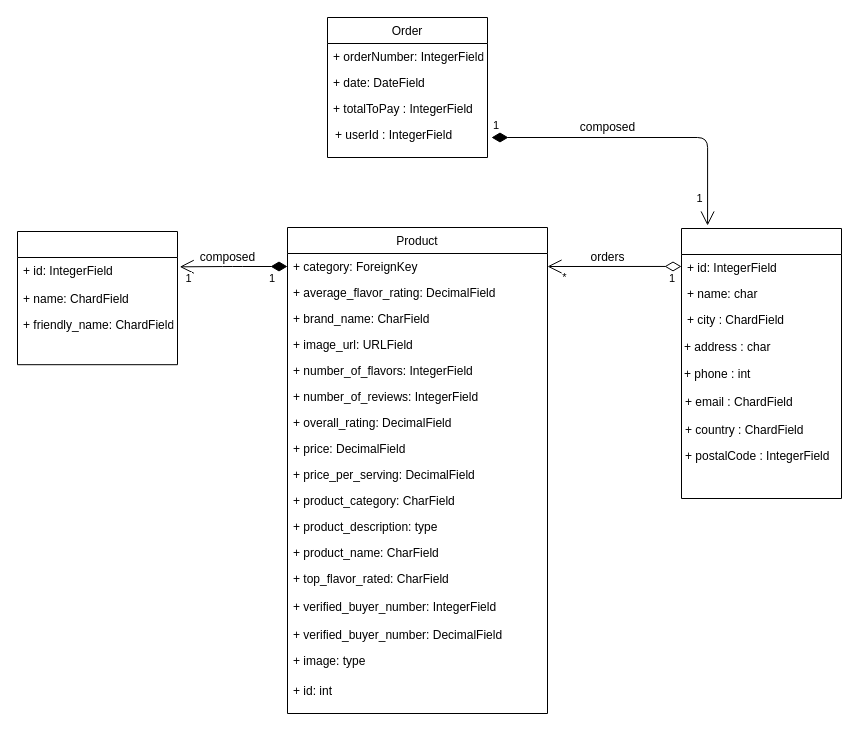
This 859x734 diagram has some shape labels left out. The box of each missing label's shape, as (x1, y1, x2, y2) in pixels:
Category: (16, 230, 178, 365)
User: (680, 228, 842, 498)
